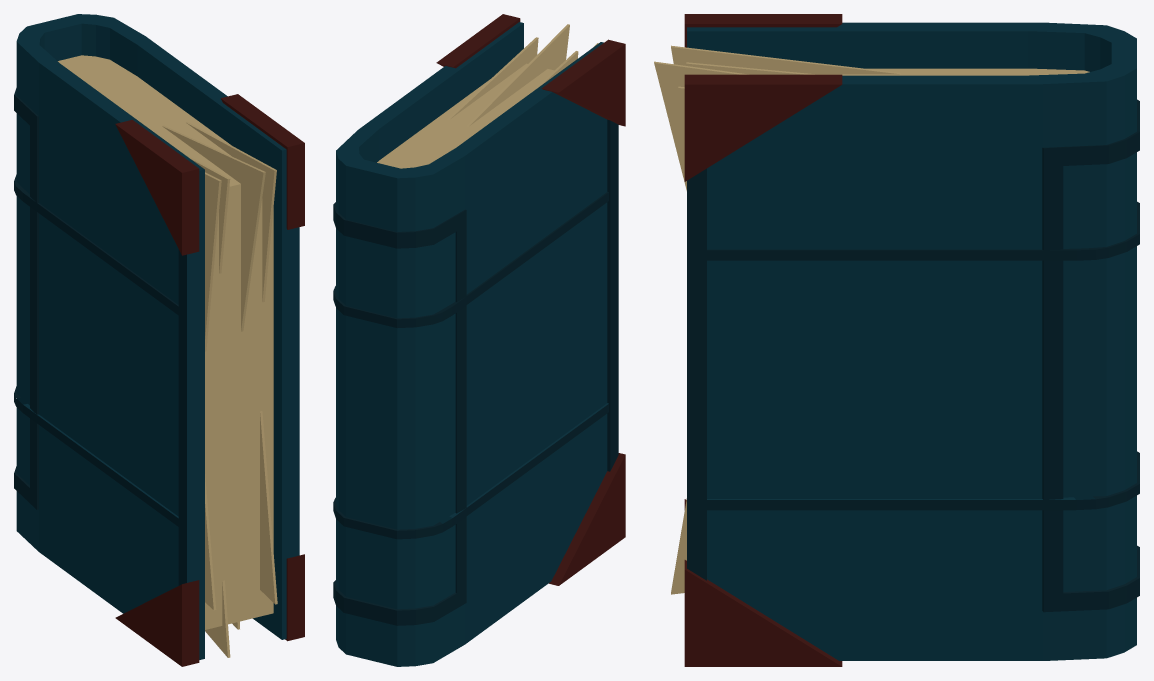
Rendered from book4_closed.glb.
3 renders of one model, left to right at view 1: azimuth 30°, elevation 25°; view 2: azimuth 150°, elevation 25°; view 3: azimuth 270°, elevation 25°, orthographic. The views are drawn at different scales.
Parts seen in each view (by area): view 1: Book4_Closed; view 2: Book4_Closed; view 3: Book4_Closed.
Part boxes in pixels (left/top/right/bottom): Book4_Closed: left=14, top=14, right=304, bottom=666; Book4_Closed: left=333, top=14, right=625, bottom=666; Book4_Closed: left=654, top=14, right=1139, bottom=666.
Bounding box in the file's own units: 20.74 × 80.68 × 60.28.
